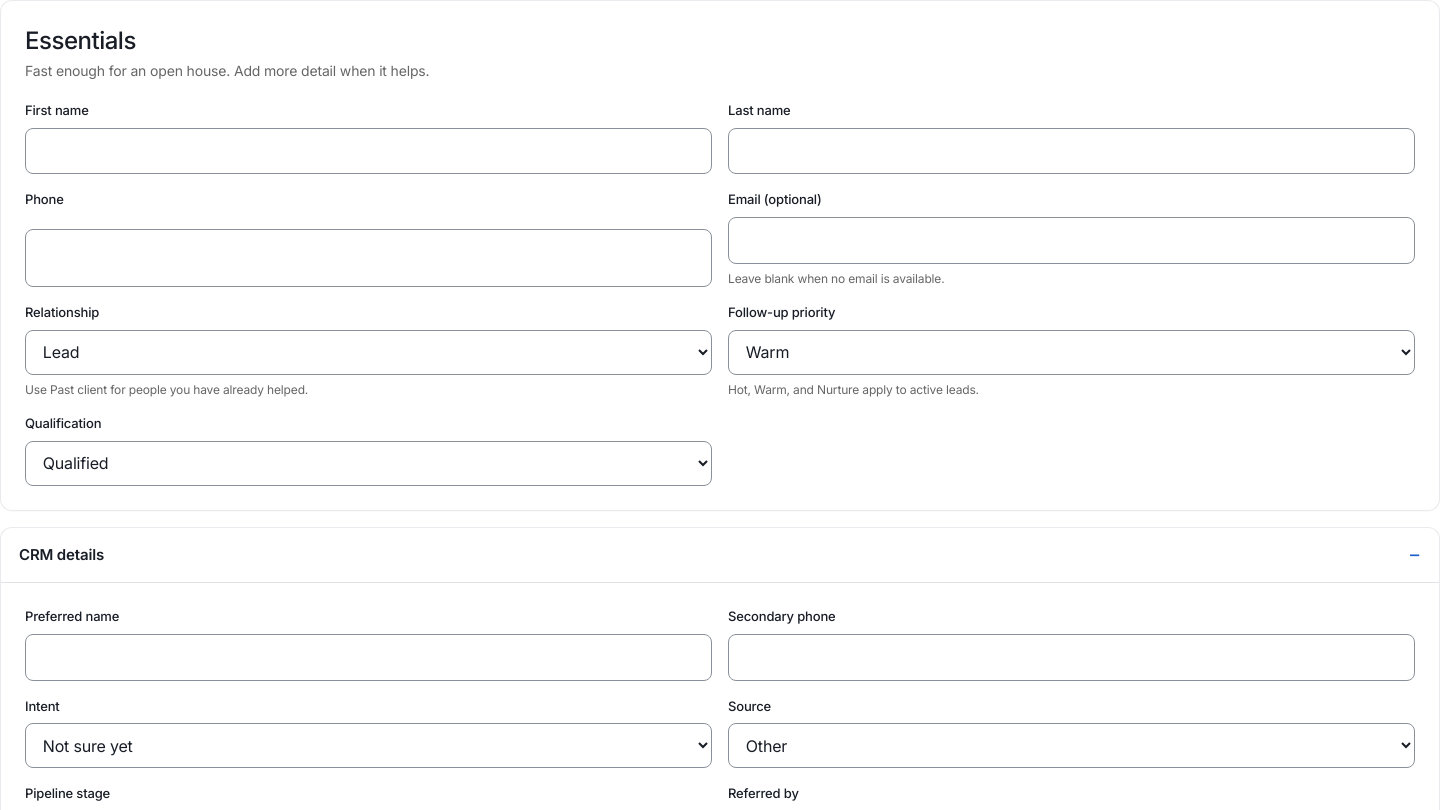
Test case: ContactForm relationship UX › makes email optional and removes lead priority when Past client is selected
The width and height of the screenshot is (1440, 810).
Expected: the dropdown labelled "Follow-up priority" is enabled, [728,330,1415,375]
Select "Past client" in the dropdown labelled "Relationship" at {"x": 368, "y": 352}, box [25,330,712,375]
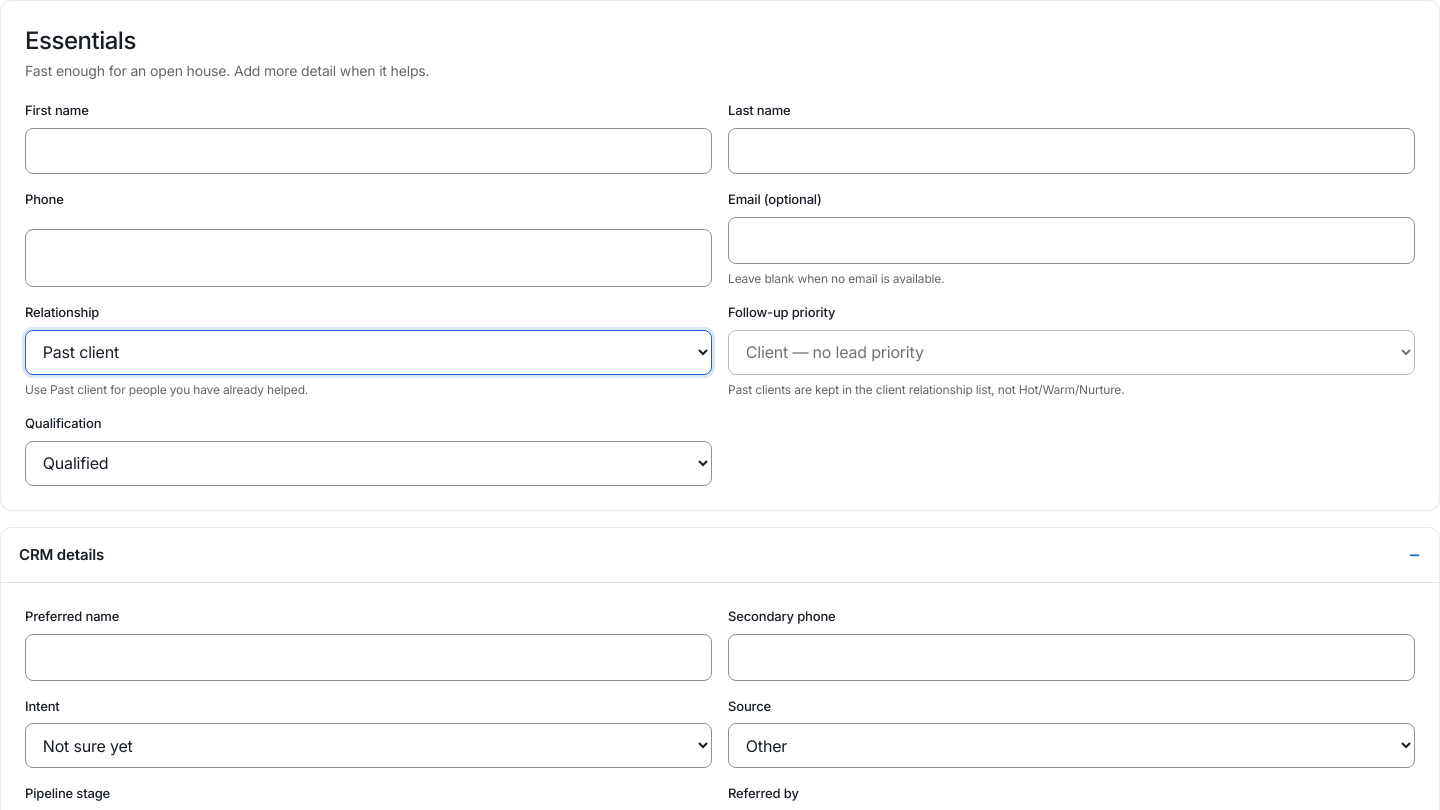
Expected: the dropdown labelled "Follow-up priority" is disabled, [728,330,1415,375]
Expected: the dropdown labelled "Follow-up priority" shows "Client — no lead priority", [728,330,1415,375]
Expected: the text "kept in the client relationship list" is shown, [728,382,1124,397]
